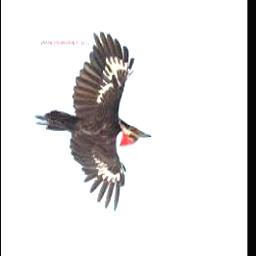Woodpecker: (34, 33, 150, 213)
